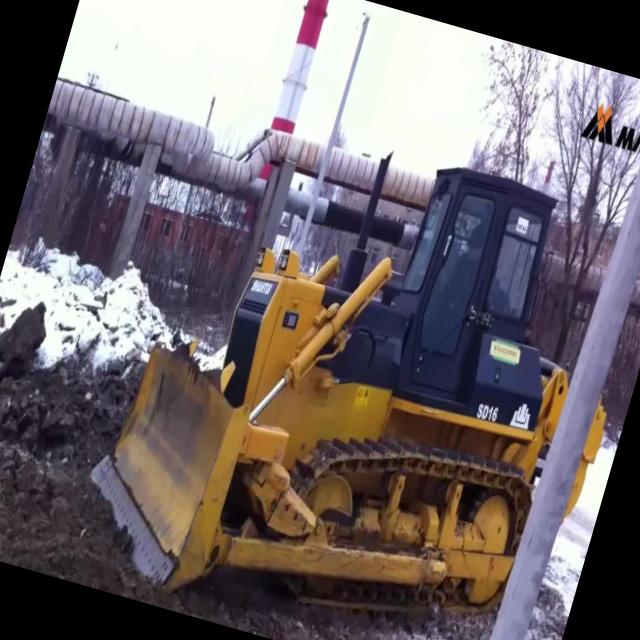Bulldozer: (61, 67, 640, 640)
